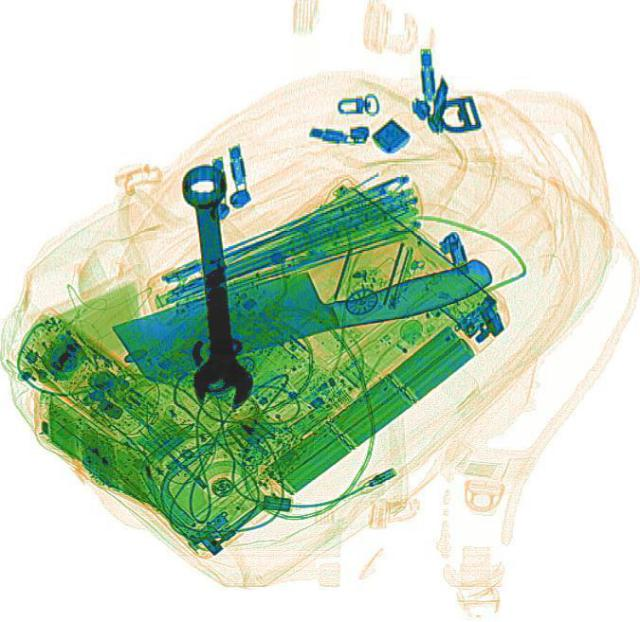Knife: (110, 218, 497, 394)
Wrench: (178, 159, 254, 409)
